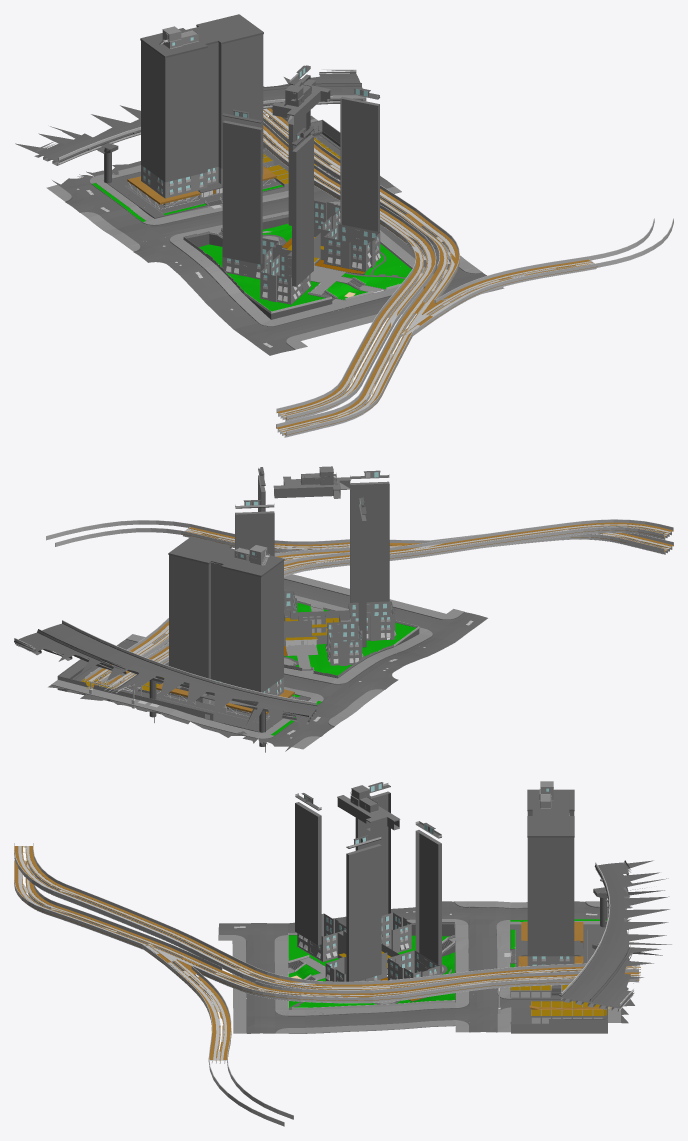
The model's file is brook_s2_7.FBX.
3 views of the same model, one above another, from view 1: azimuth 30°, elevation 25°; view 2: azimuth 150°, elevation 25°; view 3: azimuth 270°, elevation 25° (orthographic). The views are drawn at different scales.
Parts seen in each view (by area): view 1: unnamed, null; view 2: unnamed; view 3: unnamed, null.
Boxes of the visible parts, left/top/right/bottom form: unnamed: left=15, top=14, right=673, bottom=437; null: left=314, top=88, right=448, bottom=271; unnamed: left=14, top=466, right=673, bottom=752; unnamed: left=14, top=781, right=671, bottom=1126; null: left=306, top=837, right=489, bottom=1032.
Bounding box in the file's own units: 252 × 88.09 × 285.
